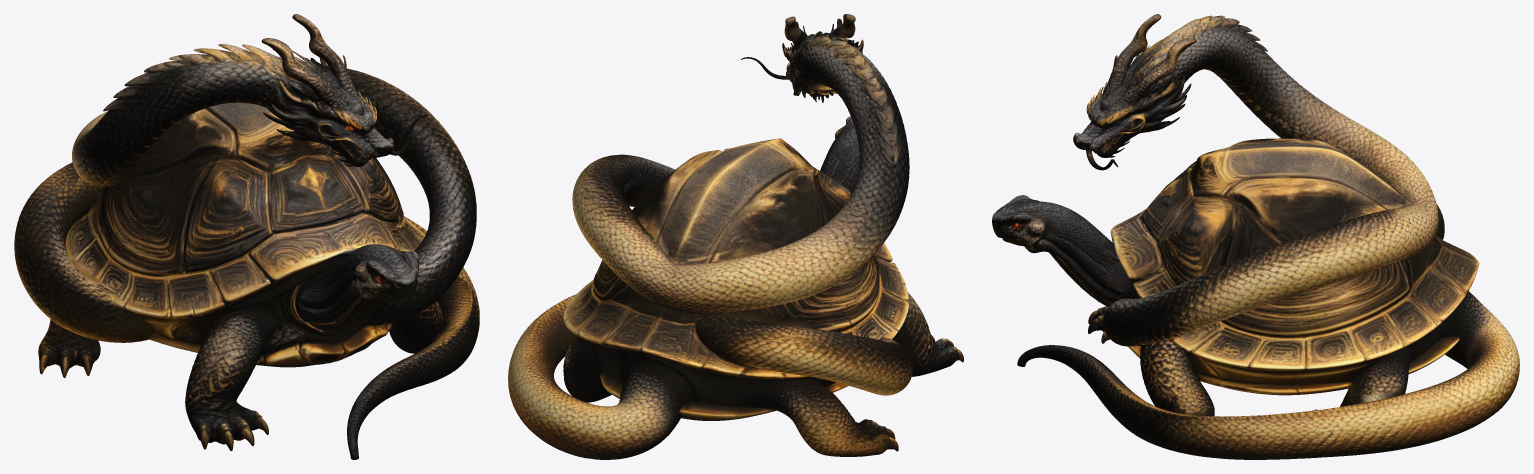
File: xuan-wu.glb
3 renders of one model, left to right at view 1: azimuth 30°, elevation 25°; view 2: azimuth 150°, elevation 25°; view 3: azimuth 270°, elevation 25°, orthographic. The views are drawn at different scales.
Visible parts, largest first — view 1: node_0; view 2: node_0; view 3: node_0.
Part boxes in pixels (left/top/right/bottom): node_0: left=14, top=14, right=479, bottom=459; node_0: left=508, top=14, right=963, bottom=459; node_0: left=992, top=14, right=1519, bottom=459.
Bounding box in the file's own units: 0.8166 × 0.7229 × 1.
Materials: 1 (1 with a texture image).
